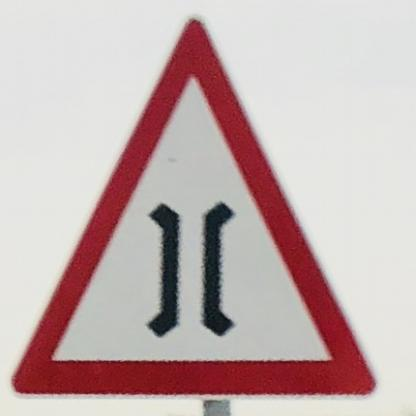Bridge Ahead: (4, 4, 384, 397)
